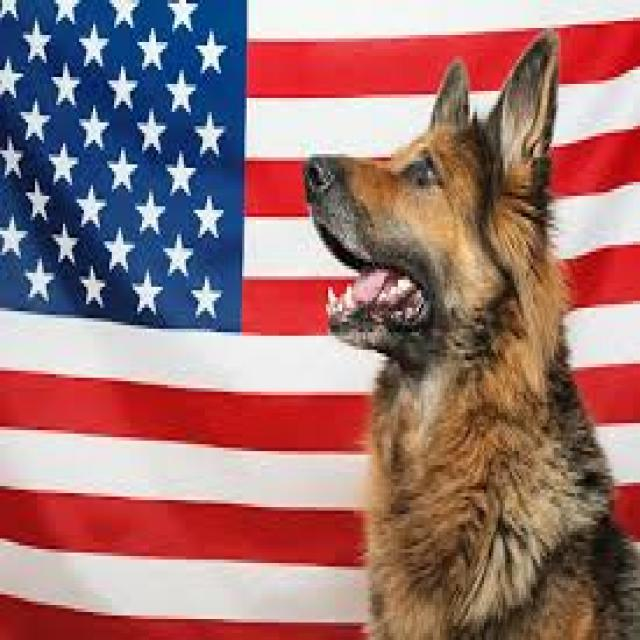Dog: (298, 17, 640, 640)
